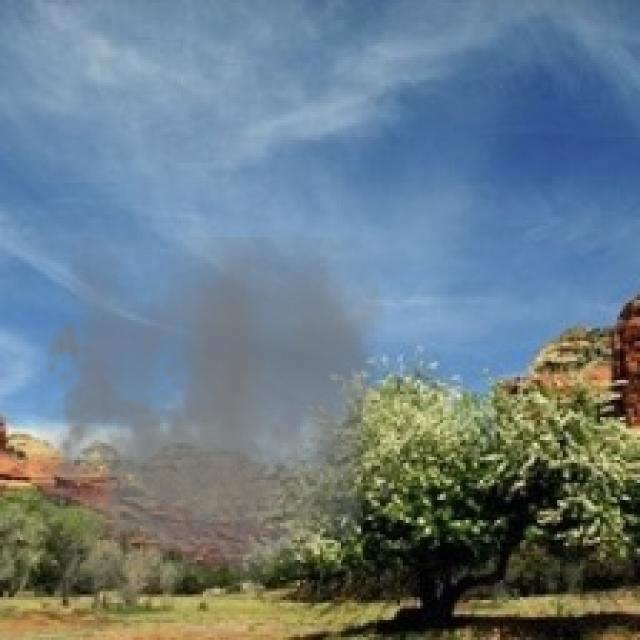Smoke: (34, 237, 386, 603)
